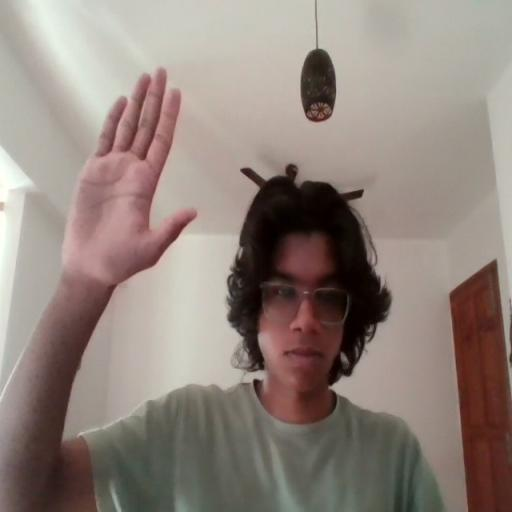Paper: (72, 72, 197, 292)
